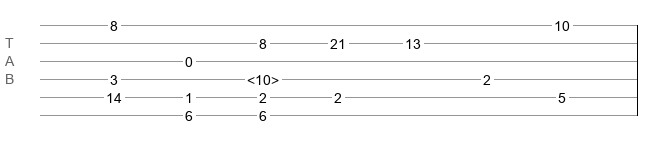0: (185, 54, 193, 64)
1: (185, 90, 193, 100)
10: (554, 18, 570, 28)
13: (405, 36, 421, 46)
14: (106, 90, 122, 100)
2: (259, 90, 267, 100), (334, 90, 342, 100), (483, 72, 491, 82)
21: (330, 36, 346, 46)
3: (110, 72, 118, 82)
5: (558, 90, 566, 100)
6: (185, 108, 193, 118), (259, 108, 267, 118)
8: (110, 18, 118, 28), (259, 36, 267, 46)
harmonic: (247, 72, 279, 82)
